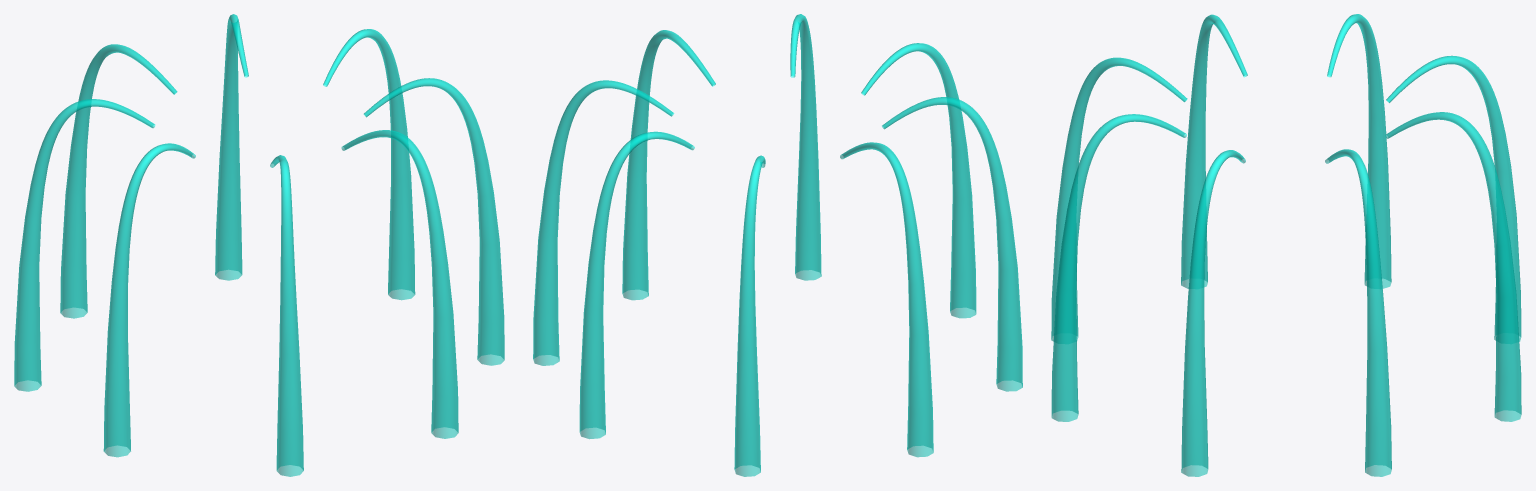
The model's file is cascade_eau.fbx.
The picture shows the model from 3 angles, left to right: view 1: azimuth 30°, elevation 25°; view 2: azimuth 150°, elevation 25°; view 3: azimuth 270°, elevation 25°; orthographic projection. The views are drawn at different scales.
Visible parts, largest first — view 1: sweep11, sweep14, sweep9, sweep16, sweep15, sweep13, sweep10, sweep12; view 2: sweep12, sweep10, sweep16, sweep14, sweep13, sweep15, sweep9, sweep11; view 3: sweep12, sweep11, sweep10, sweep9, sweep15, sweep13, sweep14, sweep16.
Boxes of the visible parts, bbox=[...] form: sweep11: bbox=[341, 130, 458, 438]; sweep14: bbox=[14, 99, 155, 391]; sweep9: bbox=[364, 78, 504, 365]; sweep16: bbox=[103, 143, 195, 457]; sweep15: bbox=[60, 44, 177, 318]; sweep13: bbox=[270, 155, 303, 476]; sweep10: bbox=[323, 29, 415, 300]; sweep12: bbox=[215, 14, 248, 280]; sweep12: bbox=[579, 131, 694, 438]; sweep10: bbox=[533, 80, 673, 365]; sweep16: bbox=[882, 97, 1022, 391]; sweep14: bbox=[840, 142, 933, 457]; sweep13: bbox=[861, 43, 976, 318]; sweep15: bbox=[734, 155, 765, 476]; sweep9: bbox=[622, 30, 715, 300]; sweep11: bbox=[790, 14, 821, 280]; sweep12: bbox=[1385, 112, 1521, 421]; sweep11: bbox=[1051, 114, 1186, 421]; sweep10: bbox=[1325, 149, 1391, 476]; sweep9: bbox=[1181, 150, 1245, 476]; sweep15: bbox=[1386, 55, 1521, 341]; sweep13: bbox=[1051, 57, 1187, 341]; sweep14: bbox=[1327, 14, 1391, 288]; sweep16: bbox=[1181, 14, 1247, 288].
Size of the model in its own units: 954 by 654 by 954.
